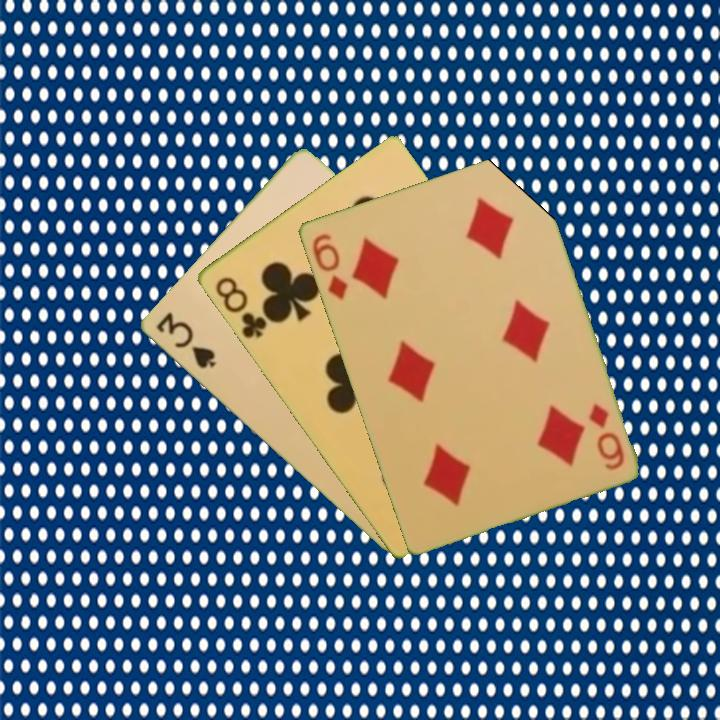3s: (152, 308, 219, 372)
6d: (584, 399, 627, 473), (308, 229, 350, 303)
8c: (211, 273, 269, 341)
